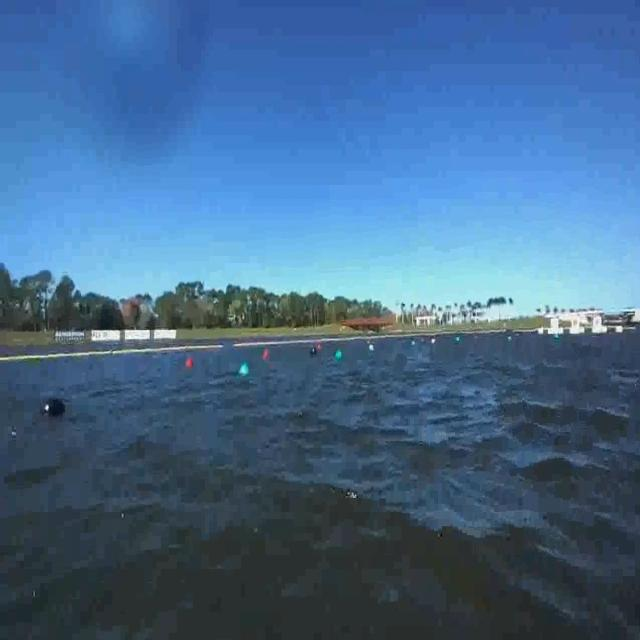black-buoy: (39, 399, 67, 418), (307, 347, 321, 359)
green-buoy: (237, 356, 249, 376), (337, 350, 344, 361)
red-buoy: (263, 345, 277, 363), (185, 357, 193, 369)
